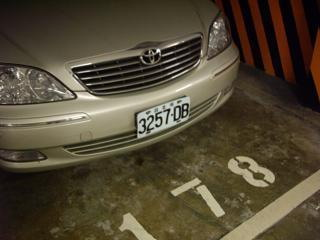plate: (134, 95, 192, 138)
